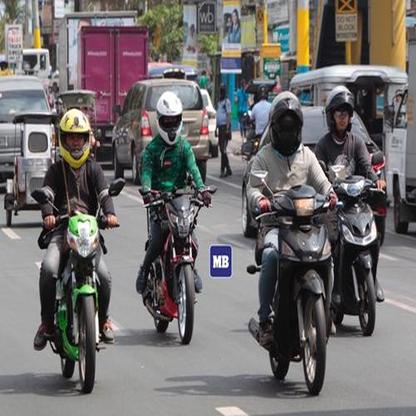target: (244, 89, 345, 397), (30, 105, 126, 398), (135, 91, 220, 347), (315, 85, 391, 336)
